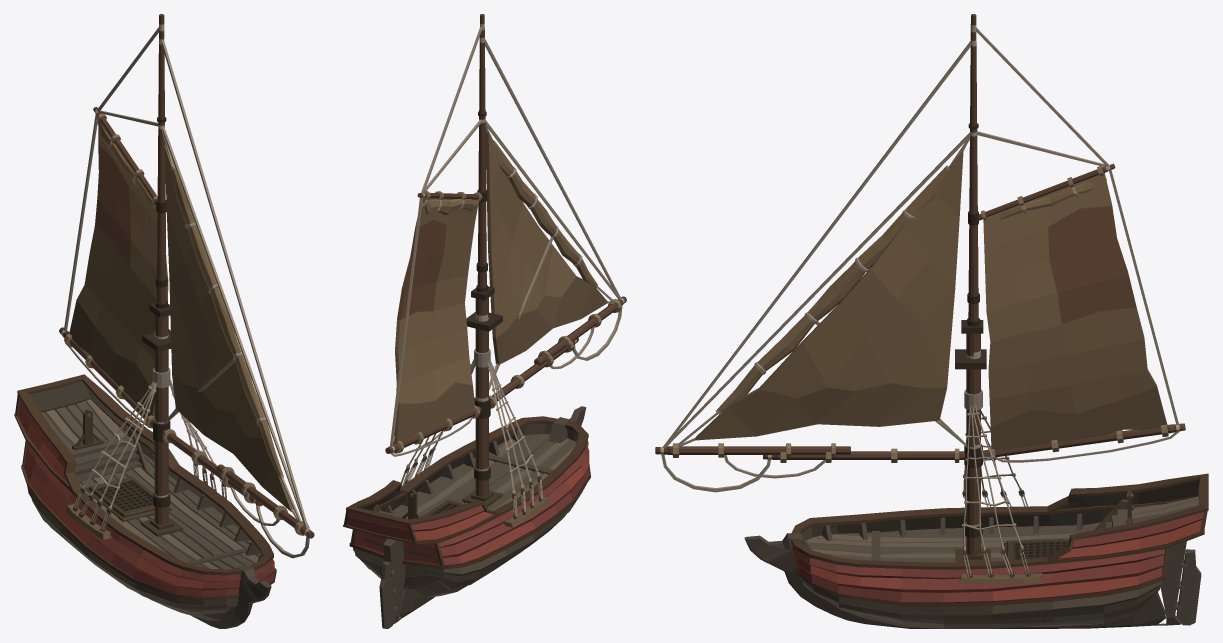
Rendered from SM_Veh_Boat_Medium_01_Hull_Pirate.glb.
3 views of the same model, side by side, from view 1: azimuth 30°, elevation 25°; view 2: azimuth 150°, elevation 25°; view 3: azimuth 270°, elevation 25° (orthographic). The views are drawn at different scales.
Parts seen in each view (by area): view 1: mesh_id5, node_id10, node_id6, node_id8; view 2: mesh_id5, node_id10, node_id8, node_id6; view 3: node_id10, mesh_id5, node_id6, node_id8.
Boxes of the visible parts, x1,y1,x2,y2 form: mesh_id5: (14, 374, 276, 628); node_id10: (69, 122, 294, 511); node_id6: (60, 15, 314, 557); node_id8: (59, 14, 313, 558); mesh_id5: (343, 359, 590, 628); node_id10: (394, 132, 608, 443); node_id8: (385, 14, 625, 496); node_id6: (390, 15, 626, 494); node_id10: (694, 150, 1167, 451); mesh_id5: (744, 405, 1208, 628); node_id6: (655, 16, 1180, 555); node_id8: (655, 14, 1185, 555).
Size of the model in its own units: 0.1246 by 0.512 by 0.4187.
Materials: 4 (4 with a texture image).
